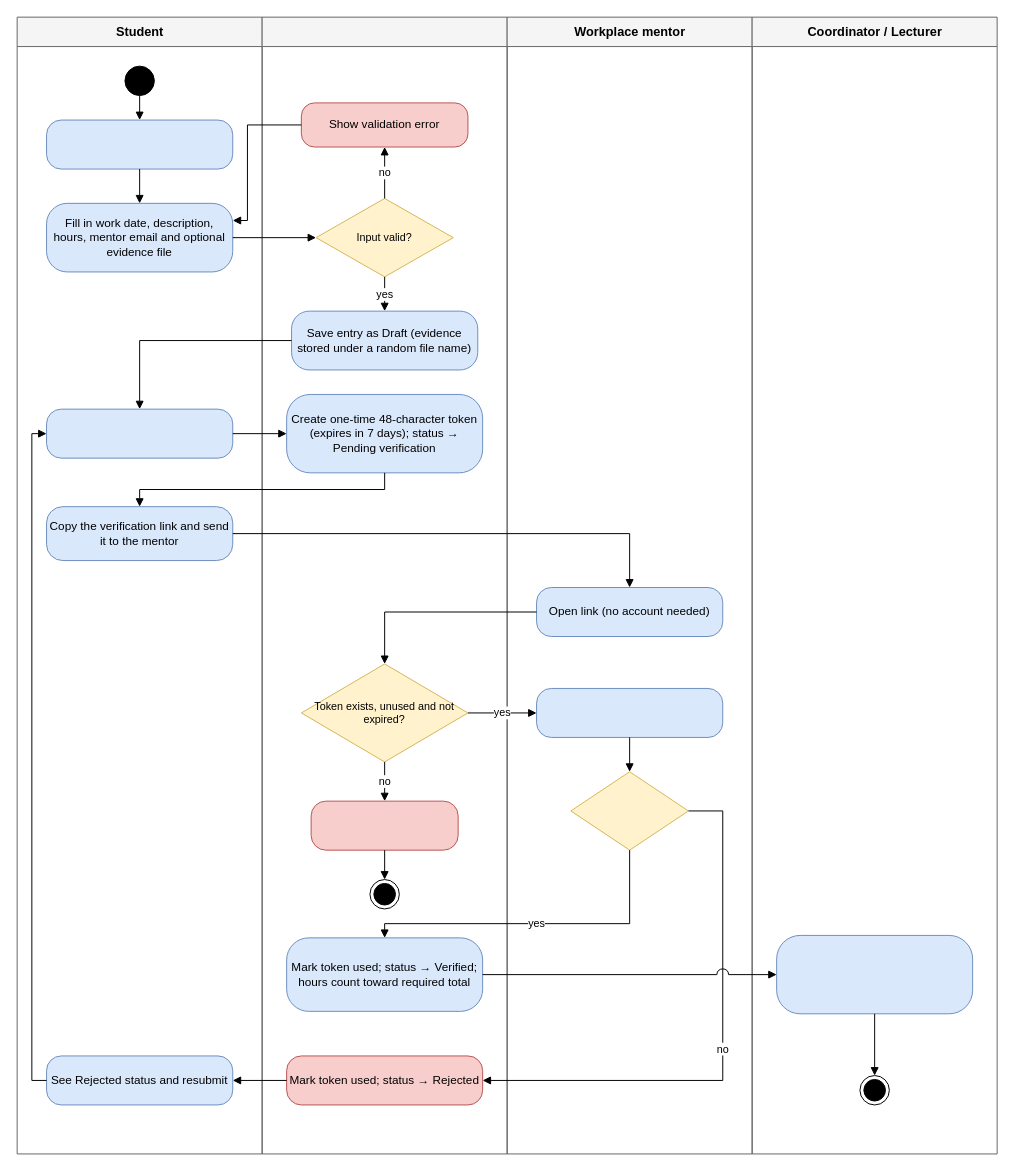
Some shapes in this 1014 by 1171 pixel diagram are drawn without their labels. The shapes that lost their labels are listed below. From the top down, each one's box as (x1, y1, x2, y2) in pixels, then its label:
(46, 119, 233, 169): Sign in (or sign up with a CTU email)
(46, 408, 233, 458): Submit entry for verification
(261, 16, 507, 1154): TrackWIL system
(536, 687, 723, 737): Review entry and evidence
(310, 800, 458, 850): Show invalid / used / expired link message
(570, 771, 688, 850): Approve?
(776, 934, 973, 1014): Dashboard shows verified hours, pending count and On track / Awaiting / Overdue
